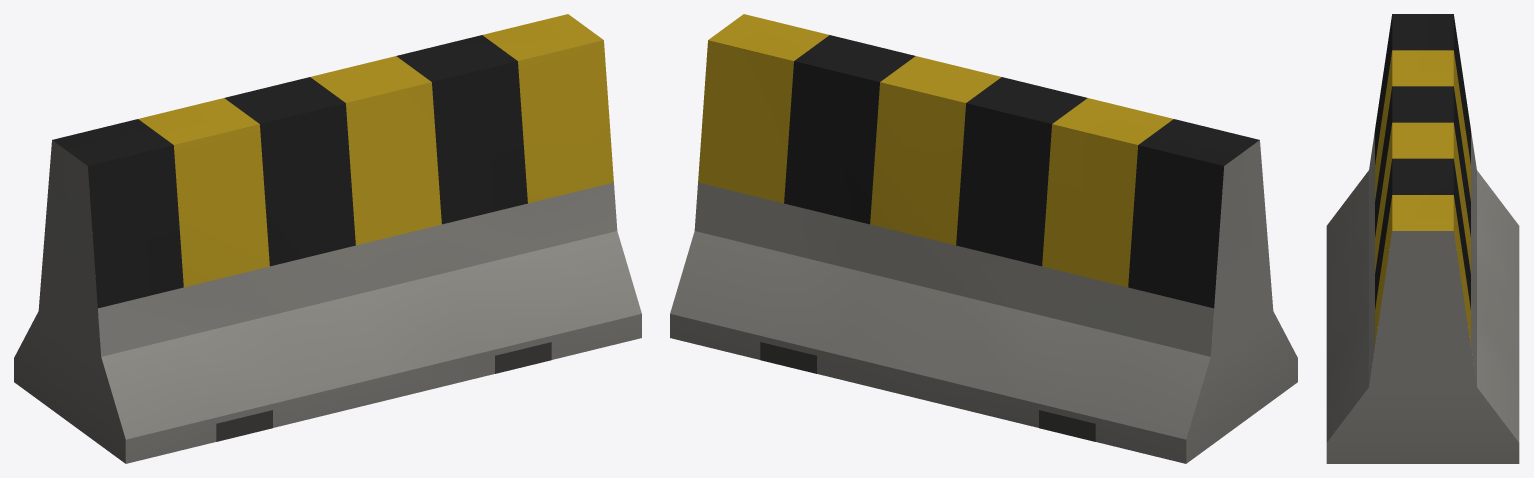
File: barrier.concrete.striped.glb
3 views of the same model, side by side, from view 1: azimuth 30°, elevation 25°; view 2: azimuth 150°, elevation 25°; view 3: azimuth 270°, elevation 25° (orthographic). The views are drawn at different scales.
Visible parts, largest first — view 1: barrier_concrete_striped; view 2: barrier_concrete_striped; view 3: barrier_concrete_striped.
Part boxes in pixels (<box>): barrier_concrete_striped: <box>14,14,641,463</box>; barrier_concrete_striped: <box>670,14,1297,463</box>; barrier_concrete_striped: <box>1326,14,1519,463</box>.
Size of what is drawn, in the model's own units: 2 by 1 by 0.752.
